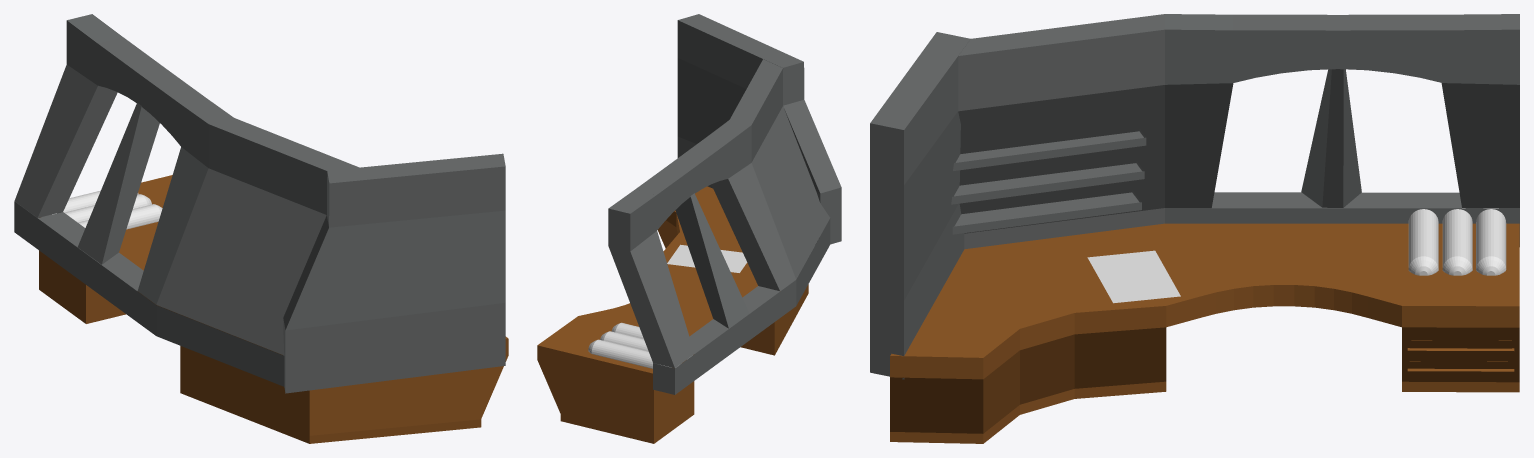
File: desk.glb
3 views of the same model, side by side, from view 1: azimuth 30°, elevation 25°; view 2: azimuth 150°, elevation 25°; view 3: azimuth 270°, elevation 25° (orthographic). The views are drawn at different scales.
Parts seen in each view (by area): view 1: Cube.002, Cube.003, Cube, Cube.001, Cylinder, Cylinder.001; view 2: Cube.002, Cube, Cube.003, Cube.001, Plane, Cylinder.002, Cylinder.001, Cylinder.003, Cylinder; view 3: Cube, Cube.002, Cube.003, Cube.006, Cube.001, Plane, Cylinder.001, Cylinder, Cylinder.003, Cylinder.002.
Part boxes in pixels (bbox=[...]): Cube.002: bbox=[14, 14, 359, 355]; Cube.003: bbox=[283, 153, 505, 393]; Cube: bbox=[39, 175, 508, 443]; Cube.001: bbox=[14, 201, 284, 386]; Cylinder: bbox=[78, 204, 162, 229]; Cylinder.001: bbox=[64, 194, 151, 222]; Cube.002: bbox=[608, 59, 829, 368]; Cube: bbox=[537, 186, 808, 443]; Cube.003: bbox=[677, 14, 841, 244]; Cube.001: bbox=[653, 218, 830, 394]; Plane: bbox=[667, 244, 747, 272]; Cylinder.002: bbox=[588, 340, 671, 368]; Cylinder.001: bbox=[600, 331, 678, 367]; Cylinder.003: bbox=[593, 339, 651, 359]; Cylinder: bbox=[611, 322, 692, 359]; Cube: bbox=[890, 223, 1519, 443]; Cube.002: bbox=[958, 14, 1519, 233]; Cube.003: bbox=[870, 32, 970, 379]; Cube.006: bbox=[951, 129, 1146, 234]; Cube.001: bbox=[964, 192, 1519, 249]; Plane: bbox=[1087, 250, 1180, 303]; Cylinder.001: bbox=[1442, 208, 1472, 275]; Cylinder: bbox=[1408, 209, 1438, 275]; Cylinder.003: bbox=[1476, 208, 1501, 266]; Cylinder.002: bbox=[1476, 213, 1506, 275].
Size of the model in its own units: 6.37 by 6.51 by 11.65.
